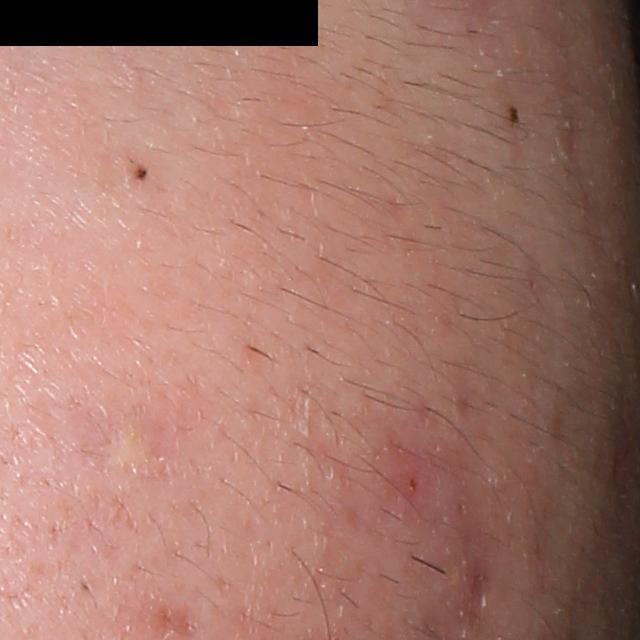atrophic_scar: (148, 595, 211, 639)
nevus: (134, 161, 152, 185), (507, 104, 524, 128)
